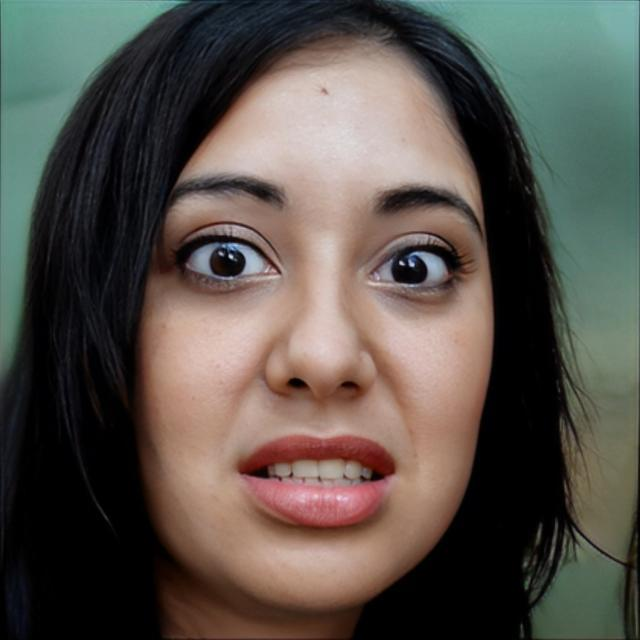disgust: (126, 31, 496, 614)
